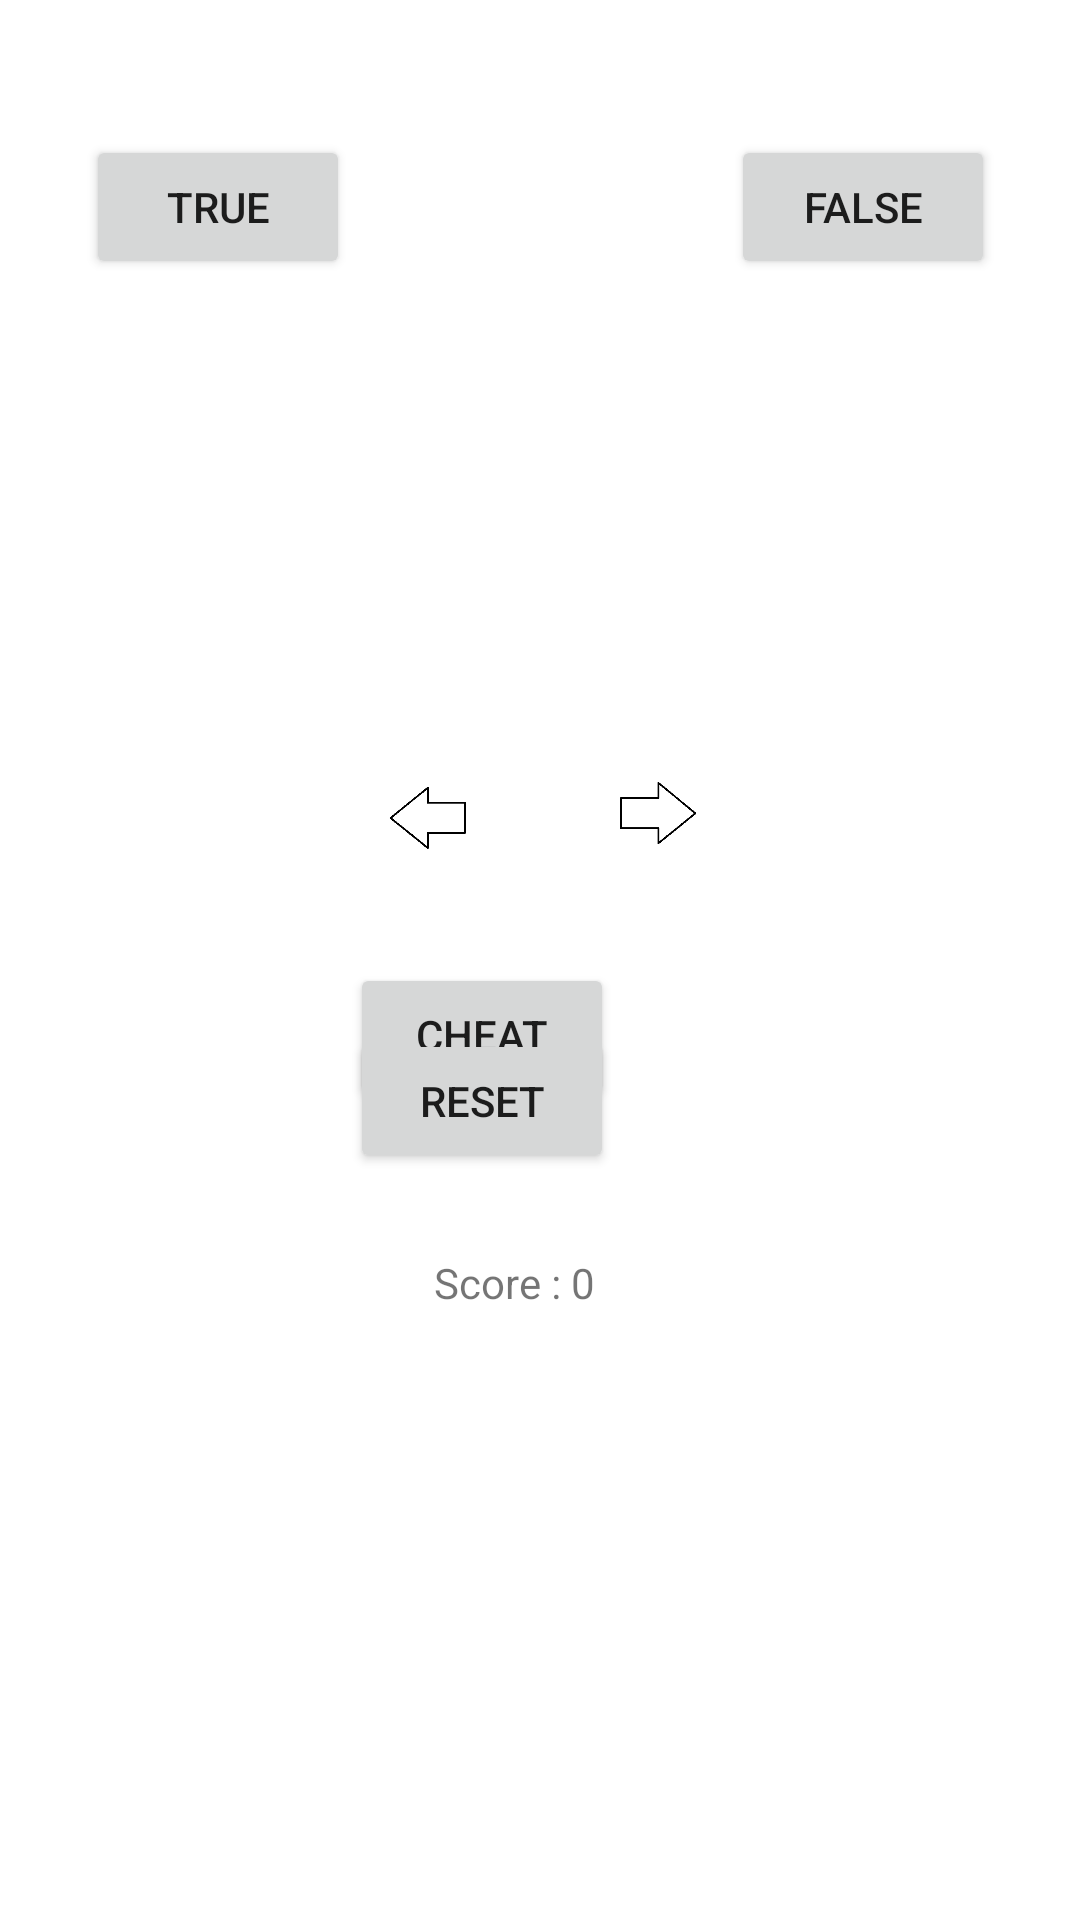

Icons on this 1080 × 1920 Android screen, each with the point to tap as [x,y]:
left: [428,818]
right: [658,813]
